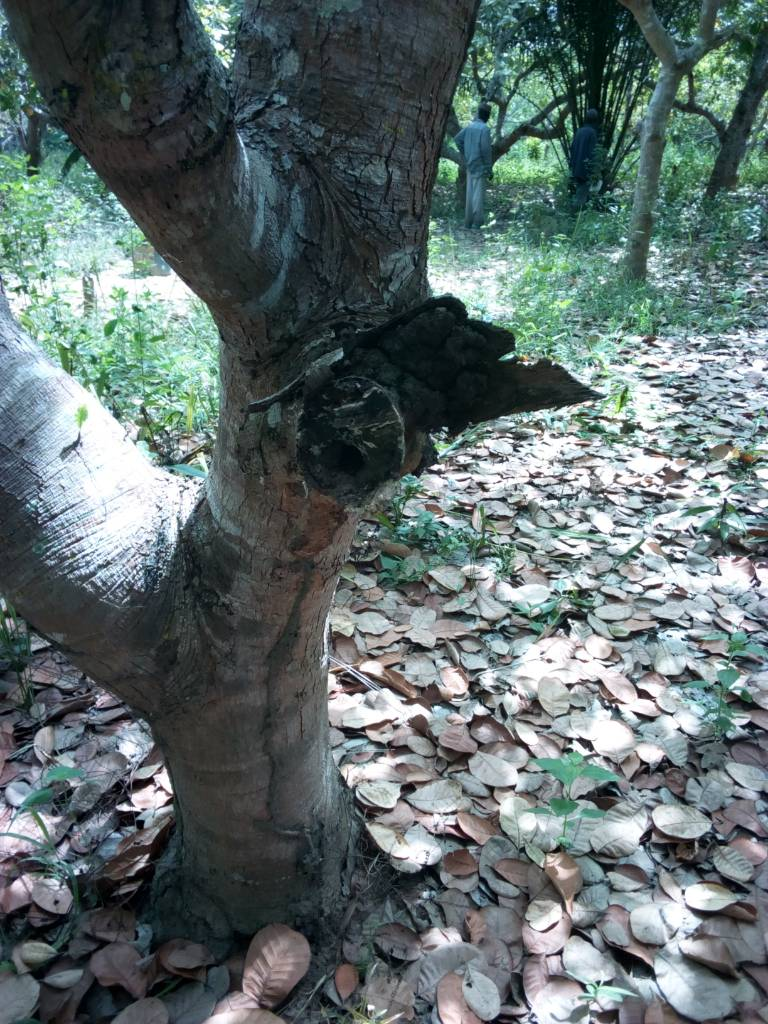Termites: (257, 558, 318, 838)
